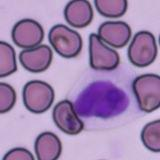M: (66, 65, 146, 129)
